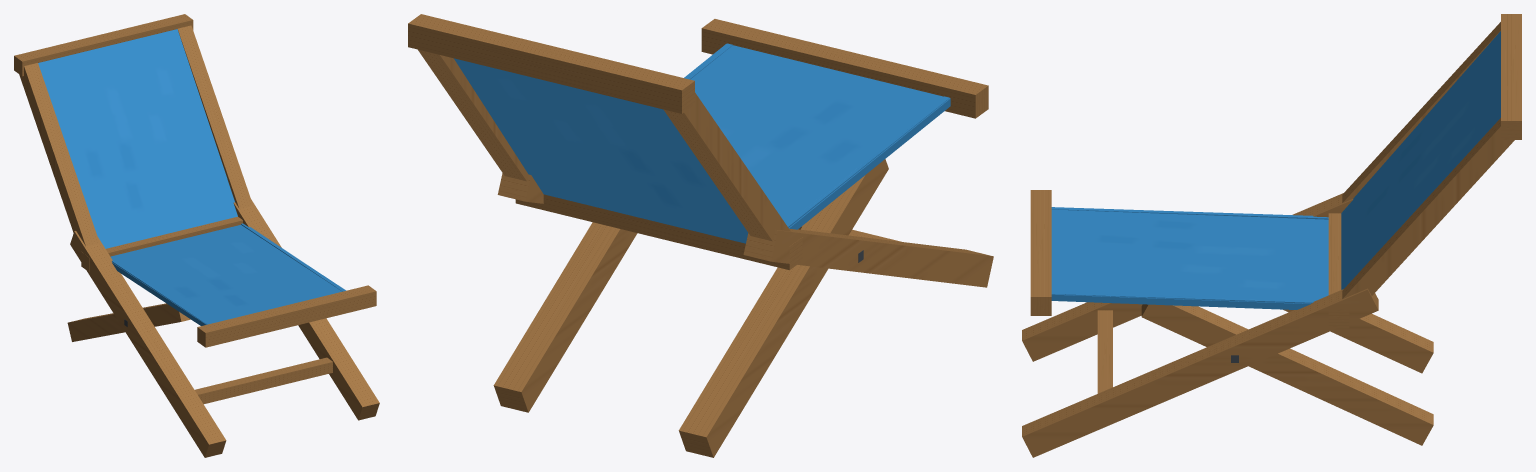
Rendered from lounge_chair.glb.
3 renders of one model, left to right at view 1: azimuth 30°, elevation 25°; view 2: azimuth 150°, elevation 25°; view 3: azimuth 270°, elevation 25°, orthographic. The views are drawn at different scales.
Parts seen in each view (by area): view 1: lounge_chair; view 2: lounge_chair; view 3: lounge_chair.
Part boxes in pixels (left/top/right/bottom): lounge_chair: left=14, top=14, right=379, bottom=457; lounge_chair: left=408, top=14, right=993, bottom=457; lounge_chair: left=1022, top=14, right=1521, bottom=457.
Size of the model in its own units: 0.74 by 1.09 by 1.46.
Materials: 3 (3 with a texture image).
